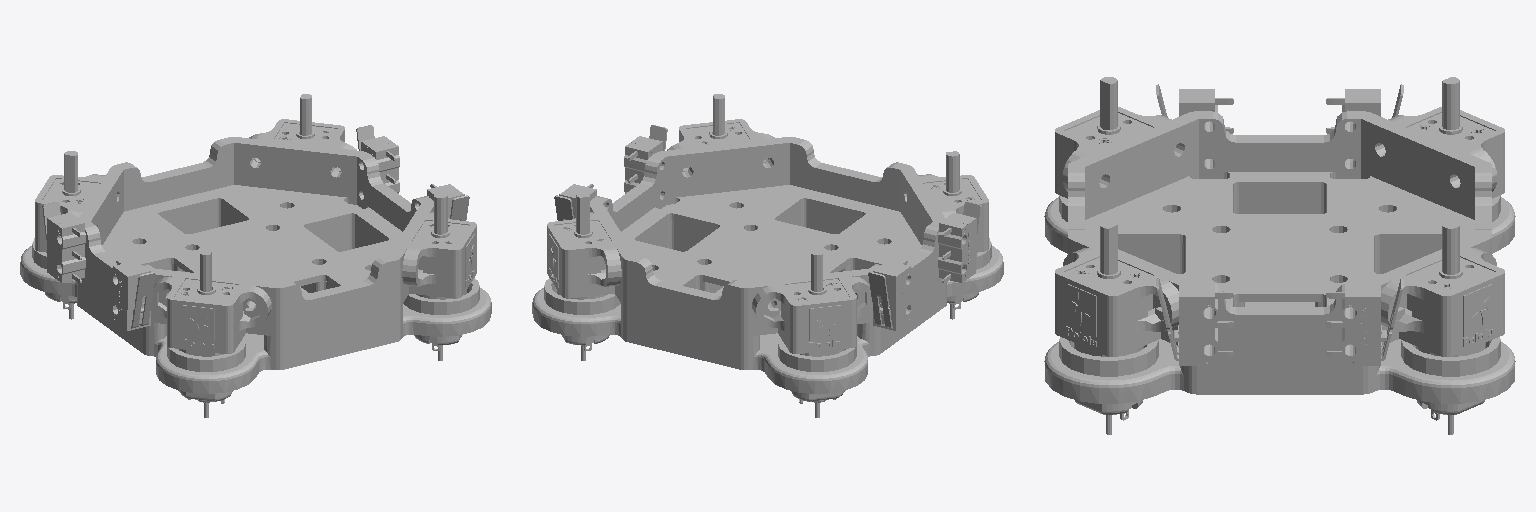
robot.urdf — spider-viz:
<?xml version="1.0" encoding="utf-8"?>
<!-- This URDF was automatically created by SolidWorks to URDF Exporter! Originally created by [author] ([email redacted]) 
     Commit Version: 1.6.0-4-g7f85cfe  Build Version: 1.6.7995.38578
     For more information, please see http://wiki.ros.org/sw_urdf_exporter -->
<robot
  name="spider-viz">
  <link
    name="base_link">
    <inertial>
      <origin
        xyz="0.0266892943143008 -0.0529146307622766 0.0363292392541809"
        rpy="0 0 0" />
      <mass
        value="0.0921702413076556" />
      <inertia
        ixx="2.08625964058626E-05"
        ixy="-3.28311314703746E-11"
        ixz="-4.27199153276168E-13"
        iyy="2.06809503924717E-05"
        iyz="1.50853658923211E-11"
        izz="3.53797936296955E-05" />
    </inertial>
    <visual>
      <origin
        xyz="0 0 0"
        rpy="0 0 0" />
      <geometry>
        <mesh
          filename="package://spider-viz/meshes/base_link.STL" />
      </geometry>
      <material
        name="">
        <color
          rgba="0.752941176470588 0.752941176470588 0.752941176470588 1" />
      </material>
    </visual>
    <collision>
      <origin
        xyz="0 0 0"
        rpy="0 0 0" />
      <geometry>
        <mesh
          filename="package://spider-viz/meshes/base_link.STL" />
      </geometry>
    </collision>
  </link>
  <link
    name="Leg_upper_1">
    <inertial>
      <origin
        xyz="0.0224341484177877 0.0194345019323821 0.00123802963799406"
        rpy="0 0 0" />
      <mass
        value="0.0300293941663224" />
      <inertia
        ixx="1.2652735989692E-06"
        ixy="9.57440698225773E-08"
        ixz="3.50404255765329E-08"
        iyy="2.92500973172409E-06"
        iyz="1.24828337019022E-08"
        izz="2.37294066598205E-06" />
    </inertial>
    <visual>
      <origin
        xyz="0 0 0"
        rpy="0 0 0" />
      <geometry>
        <mesh
          filename="package://spider-viz/meshes/Leg_upper_1.STL" />
      </geometry>
      <material
        name="">
        <color
          rgba="0.752941176470588 0.752941176470588 0.752941176470588 1" />
      </material>
    </visual>
    <collision>
      <origin
        xyz="0 0 0"
        rpy="0 0 0" />
      <geometry>
        <mesh
          filename="package://spider-viz/meshes/Leg_upper_1.STL" />
      </geometry>
    </collision>
  </link>
  <joint
    name="Leg_upper_1"
    type="continuous">
    <origin
      xyz="0.0558314237945942 -0.082056810538703 0.032257412658079"
      rpy="1.5707963267949 0 -0.770351507810951" />
    <parent
      link="base_link" />
    <child
      link="Leg_upper_1" />
    <axis
      xyz="0 1 0" />
  </joint>
  <link
    name="Leg_lower_1">
    <inertial>
      <origin
        xyz="0.00311176481872155 0.00668594442837456 -0.014229476288882"
        rpy="0 0 0" />
      <mass
        value="0.00601286144806056" />
      <inertia
        ixx="3.40663837434057E-06"
        ixy="-7.64574602028228E-10"
        ixz="2.60962310894469E-09"
        iyy="2.81511776431459E-06"
        iyz="-1.13227495170938E-06"
        izz="6.06135581740067E-07" />
    </inertial>
    <visual>
      <origin
        xyz="0 0 0"
        rpy="0 0 0" />
      <geometry>
        <mesh
          filename="package://spider-viz/meshes/Leg_lower_1.STL" />
      </geometry>
      <material
        name="">
        <color
          rgba="0.752941176470588 0.752941176470588 0.752941176470588 1" />
      </material>
    </visual>
    <collision>
      <origin
        xyz="0 0 0"
        rpy="0 0 0" />
      <geometry>
        <mesh
          filename="package://spider-viz/meshes/Leg_lower_1.STL" />
      </geometry>
    </collision>
  </link>
  <joint
    name="Leg_lower_1"
    type="continuous">
    <origin
      xyz="0.0550943670538194 0.0131500000000004 0"
      rpy="-0.181875741727454 -1.57079631189374 -0.949890242088311" />
    <parent
      link="Leg_upper_1" />
    <child
      link="Leg_lower_1" />
    <axis
      xyz="1 0 0" />
  </joint>
  <link
    name="Leg_upper_2">
    <inertial>
      <origin
        xyz="0.0224591945586422 0.0194345020400587 -0.000747784292902176"
        rpy="0 0 0" />
      <mass
        value="0.0300293937574502" />
      <inertia
        ixx="1.26742713368931E-06"
        ixy="9.61215915544592E-08"
        ixz="-5.8297297807317E-08"
        iyy="2.92500970148588E-06"
        iyz="-1.0253975111172E-08"
        izz="2.37078709799993E-06" />
    </inertial>
    <visual>
      <origin
        xyz="0 0 0"
        rpy="0 0 0" />
      <geometry>
        <mesh
          filename="package://spider-viz/meshes/Leg_upper_2.STL" />
      </geometry>
      <material
        name="">
        <color
          rgba="0.752941176470588 0.752941176470588 0.752941176470588 1" />
      </material>
    </visual>
    <collision>
      <origin
        xyz="0 0 0"
        rpy="0 0 0" />
      <geometry>
        <mesh
          filename="package://spider-viz/meshes/Leg_upper_2.STL" />
      </geometry>
    </collision>
  </link>
  <joint
    name="Leg_upper_2"
    type="continuous">
    <origin
      xyz="-0.00245284745286578 -0.0820568105387026 0.0322574126580794"
      rpy="1.5707963267949 0 -2.34833207396482" />
    <parent
      link="base_link" />
    <child
      link="Leg_upper_2" />
    <axis
      xyz="0 1 0" />
  </joint>
  <link
    name="Leg_lower_2">
    <inertial>
      <origin
        xyz="-0.001571113030223 0.00651525023762314 -0.0143539278042697"
        rpy="0 0 0" />
      <mass
        value="0.00601286144806057" />
      <inertia
        ixx="3.4066581371373E-06"
        ixy="-3.78655154375247E-10"
        ixz="1.36965531009086E-09"
        iyy="2.77989487478395E-06"
        iyz="-1.16557426834591E-06"
        izz="6.41338708473986E-07" />
    </inertial>
    <visual>
      <origin
        xyz="0 0 0"
        rpy="0 0 0" />
      <geometry>
        <mesh
          filename="package://spider-viz/meshes/Leg_lower_2.STL" />
      </geometry>
      <material
        name="">
        <color
          rgba="0.752941176470588 0.752941176470588 0.752941176470588 1" />
      </material>
    </visual>
    <collision>
      <origin
        xyz="0 0 0"
        rpy="0 0 0" />
      <geometry>
        <mesh
          filename="package://spider-viz/meshes/Leg_lower_2.STL" />
      </geometry>
    </collision>
  </link>
  <joint
    name="Leg_lower_2"
    type="continuous">
    <origin
      xyz="0.0550943670538194 0.0131500000000001 0"
      rpy="-1.43048154935128 -1.57079631189374 0.320209415436932" />
    <parent
      link="Leg_upper_2" />
    <child
      link="Leg_lower_2" />
    <axis
      xyz="1 0 0" />
  </joint>
  <link
    name="Leg_upper_3">
    <inertial>
      <origin
        xyz="0.0222809004205029 0.0194345019323819 0.00289572254670595"
        rpy="0 0 0" />
      <mass
        value="0.0300293941663224" />
      <inertia
        ixx="1.2661714803986E-06"
        ixy="9.45569910154917E-08"
        ixz="-4.71336283660847E-08"
        iyy="2.92500973172409E-06"
        iyz="1.95377453539568E-08"
        izz="2.37204278455265E-06" />
    </inertial>
    <visual>
      <origin
        xyz="0 0 0"
        rpy="0 0 0" />
      <geometry>
        <mesh
          filename="package://spider-viz/meshes/Leg_upper_3.STL" />
      </geometry>
      <material
        name="">
        <color
          rgba="0.752941176470588 0.752941176470588 0.752941176470588 1" />
      </material>
    </visual>
    <collision>
      <origin
        xyz="0 0 0"
        rpy="0 0 0" />
      <geometry>
        <mesh
          filename="package://spider-viz/meshes/Leg_upper_3.STL" />
      </geometry>
    </collision>
  </link>
  <joint
    name="Leg_upper_3"
    type="continuous">
    <origin
      xyz="-0.00245284745286686 -0.0237725392912402 0.0322574126580794"
      rpy="1.5707963267949 0 2.44535194984567" />
    <parent
      link="base_link" />
    <child
      link="Leg_upper_3" />
    <axis
      xyz="0 1 0" />
  </joint>
  <link
    name="Leg_lower_3">
    <inertial>
      <origin
        xyz="0.0080804639879735 0.00427031625418334 -0.0148004463019774"
        rpy="0 0 0" />
      <mass
        value="0.00601286144806056" />
      <inertia
        ixx="3.40571349652748E-06"
        ixy="-2.27161817315982E-09"
        ixz="1.59035355940663E-08"
        iyy="2.45598618405239E-06"
        iyz="-1.3958484025883E-06"
        izz="9.66192039815356E-07" />
    </inertial>
    <visual>
      <origin
        xyz="0 0 0"
        rpy="0 0 0" />
      <geometry>
        <mesh
          filename="package://spider-viz/meshes/Leg_lower_3.STL" />
      </geometry>
      <material
        name="">
        <color
          rgba="0.752941176470588 0.752941176470588 0.752941176470588 1" />
      </material>
    </visual>
    <collision>
      <origin
        xyz="0 0 0"
        rpy="0 0 0" />
      <geometry>
        <mesh
          filename="package://spider-viz/meshes/Leg_lower_3.STL" />
      </geometry>
    </collision>
  </link>
  <joint
    name="Leg_lower_3"
    type="continuous">
    <origin
      xyz="0.0550943670538193 0.0131500000000001 0"
      rpy="2.15366156766054 -1.5707963267949 0" />
    <parent
      link="Leg_upper_3" />
    <child
      link="Leg_lower_3" />
    <axis
      xyz="1 0 0" />
  </joint>
  <link
    name="Leg_upper_4">
    <inertial>
      <origin
        xyz="0.0224638651606072 0.0194345020400586 -0.000591069892403026"
        rpy="0 0 0" />
      <mass
        value="0.0300293937574502" />
      <inertia
        ixx="1.26829429491891E-06"
        ixy="9.61907932986475E-08"
        ixz="-6.59894987584529E-08"
        iyy="2.92500970148588E-06"
        iyz="-9.58309204378557E-09"
        izz="2.36991993677032E-06" />
    </inertial>
    <visual>
      <origin
        xyz="0 0 0"
        rpy="0 0 0" />
      <geometry>
        <mesh
          filename="package://spider-viz/meshes/Leg_upper_4.STL" />
      </geometry>
      <material
        name="">
        <color
          rgba="0.752941176470588 0.752941176470588 0.752941176470588 1" />
      </material>
    </visual>
    <collision>
      <origin
        xyz="0 0 0"
        rpy="0 0 0" />
      <geometry>
        <mesh
          filename="package://spider-viz/meshes/Leg_upper_4.STL" />
      </geometry>
    </collision>
  </link>
  <joint
    name="Leg_upper_4"
    type="continuous">
    <origin
      xyz="0.0558314237945949 -0.0237725392912401 0.0322574126580795"
      rpy="1.5707963267949 0 0.800237564975585" />
    <parent
      link="base_link" />
    <child
      link="Leg_upper_4" />
    <axis
      xyz="0 1 0" />
  </joint>
  <link
    name="Leg_lower_4">
    <inertial>
      <origin
        xyz="-0.0011017046348528 0.00670607084598074 -0.0142737370877943"
        rpy="0 0 0" />
      <mass
        value="0.00601286144806056" />
      <inertia
        ixx="3.40663911805935E-06"
        ixy="-7.47407452275963E-10"
        ixz="2.57561952401831E-09"
        iyy="2.80926115614717E-06"
        iyz="-1.1379576149151E-06"
        izz="6.11991446188703E-07" />
    </inertial>
    <visual>
      <origin
        xyz="0 0 0"
        rpy="0 0 0" />
      <geometry>
        <mesh
          filename="package://spider-viz/meshes/Leg_lower_4.STL" />
      </geometry>
      <material
        name="">
        <color
          rgba="0.752941176470588 0.752941176470588 0.752941176470588 1" />
      </material>
    </visual>
    <collision>
      <origin
        xyz="0 0 0"
        rpy="0 0 0" />
      <geometry>
        <mesh
          filename="package://spider-viz/meshes/Leg_lower_4.STL" />
      </geometry>
    </collision>
  </link>
  <joint
    name="Leg_lower_4"
    type="continuous">
    <origin
      xyz="0.0550943670538193 0.0131500000000001 0"
      rpy="2.01503172708615 -1.5707963267949 0" />
    <parent
      link="Leg_upper_4" />
    <child
      link="Leg_lower_4" />
    <axis
      xyz="1 0 0" />
  </joint>
</robot>

--- Render facts (derived) ---
The picture shows the robot from 3 angles, left to right: view 1: azimuth 30°, elevation 25°; view 2: azimuth 150°, elevation 25°; view 3: azimuth 270°, elevation 25°; orthographic projection.
Robot: spider-viz — 9 links, 8 joints (8 continuous); root link base_link; default pose: all joints at 0.
Links seen in each view (by area): view 1: base_link; view 2: base_link; view 3: base_link.
Link boxes in pixels (box(x1,y1,x2,y2)): base_link: box(20, 94, 491, 417); base_link: box(532, 94, 1003, 417); base_link: box(1044, 77, 1515, 434).
Size in the robot's own frame: 0.084 by 0.0803 by 0.0393 metres.
1 mesh visuals loaded from 9 distinct referenced files (1 binary STL); not drawn: 8 (file found but could not be loaded).